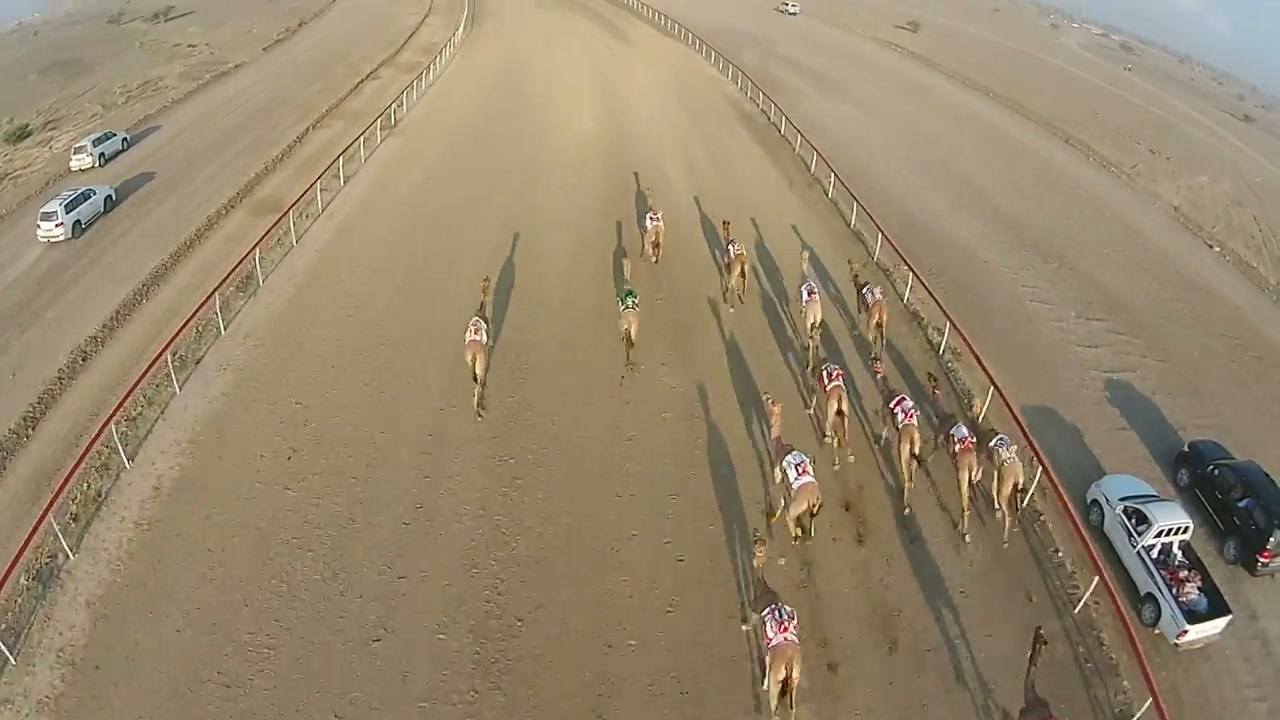animal_footprint: (455, 367, 715, 704)
